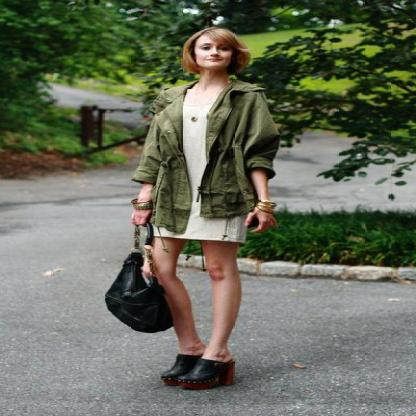bag: (105, 252, 173, 332)
dress: (162, 103, 261, 242)
jacket: (125, 80, 283, 233)
shoe: (161, 354, 234, 390)
